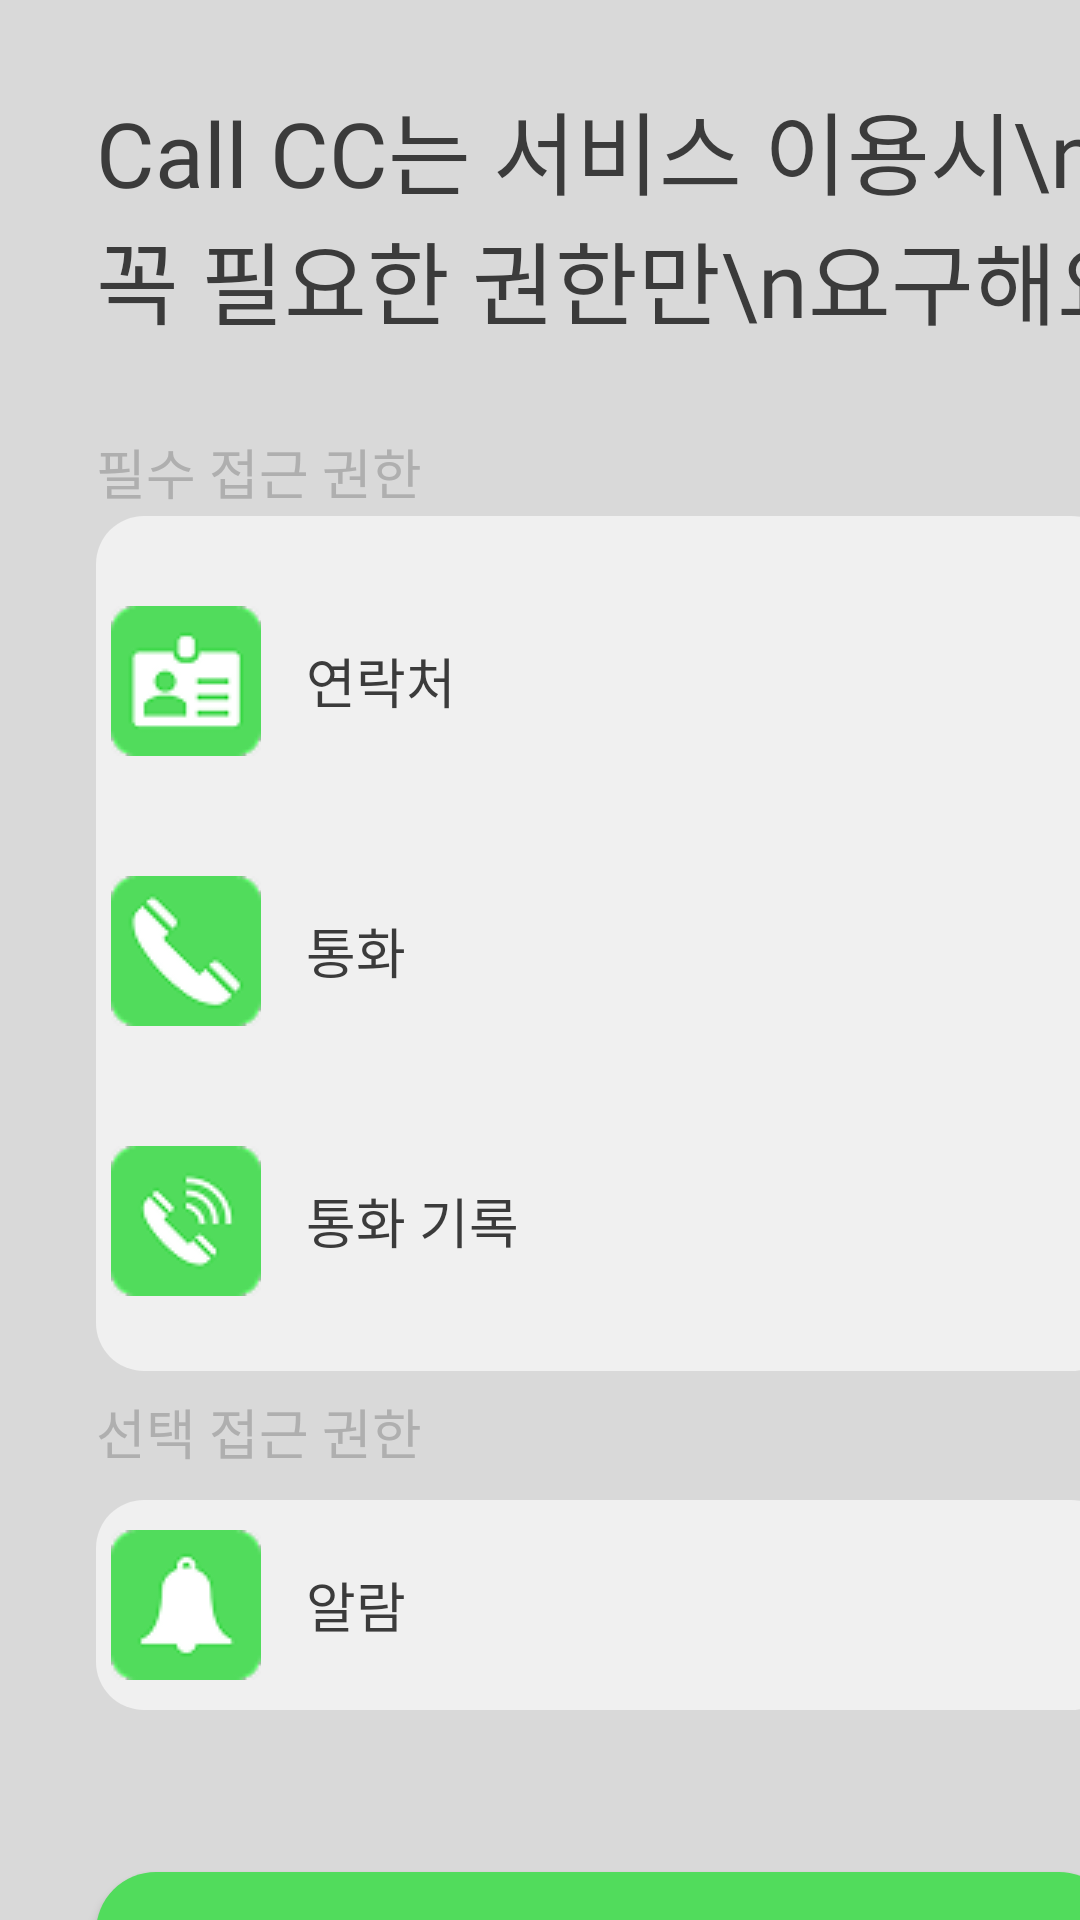

Locate icon controls on the screen. Image size 1080*1920, boxes as (x1,y1,x2,y2).
address: (111,606,261,756)
alarm: (111,1530,261,1680)
call: (111,876,261,1026)
call history: (111,1146,261,1296)
